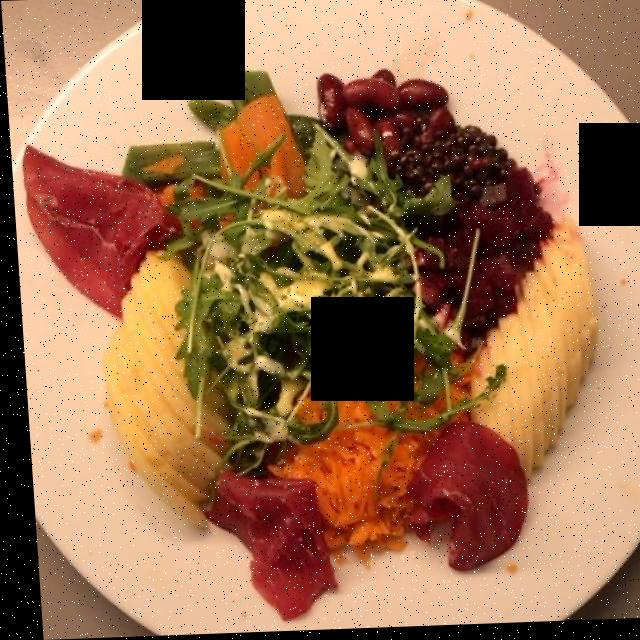apple: (97, 229, 578, 524)
beans-kidney: (307, 74, 433, 173)
beetroot-raw: (407, 165, 537, 357)
carrot-raw: (214, 98, 431, 553)
french-salad-dressing: (223, 238, 430, 389)
lentils: (377, 115, 500, 213)
salad-rocket: (143, 154, 421, 405)
